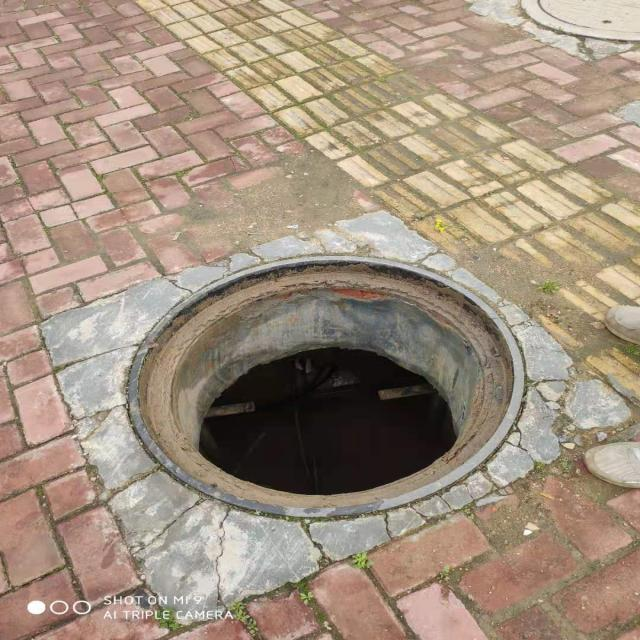Faulty: (123, 256, 526, 522)
